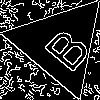B: (35, 19, 94, 75)
